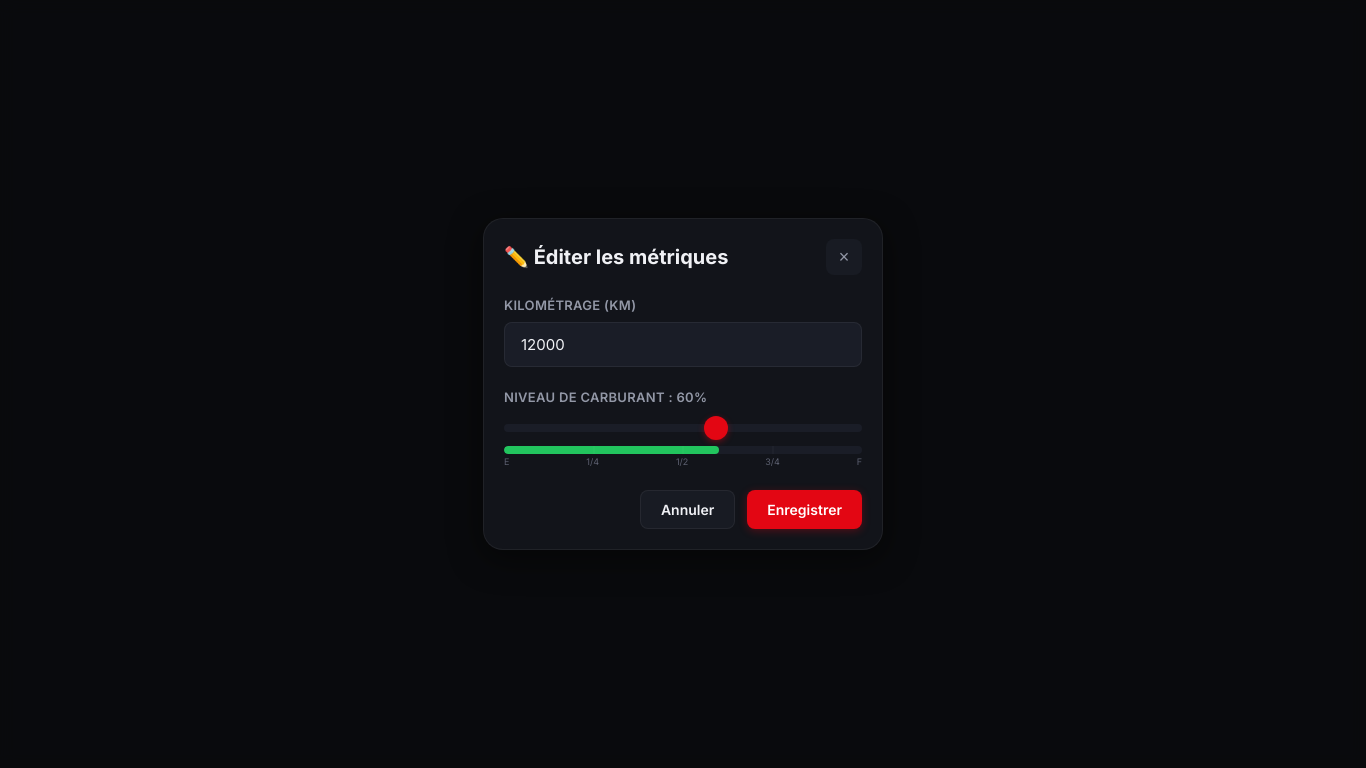
EditMetricsModal › affiche une erreur si la mise à jour échoue
Step 1. Click the button "Enregistrer" → (805, 509), box [747,490,862,529]
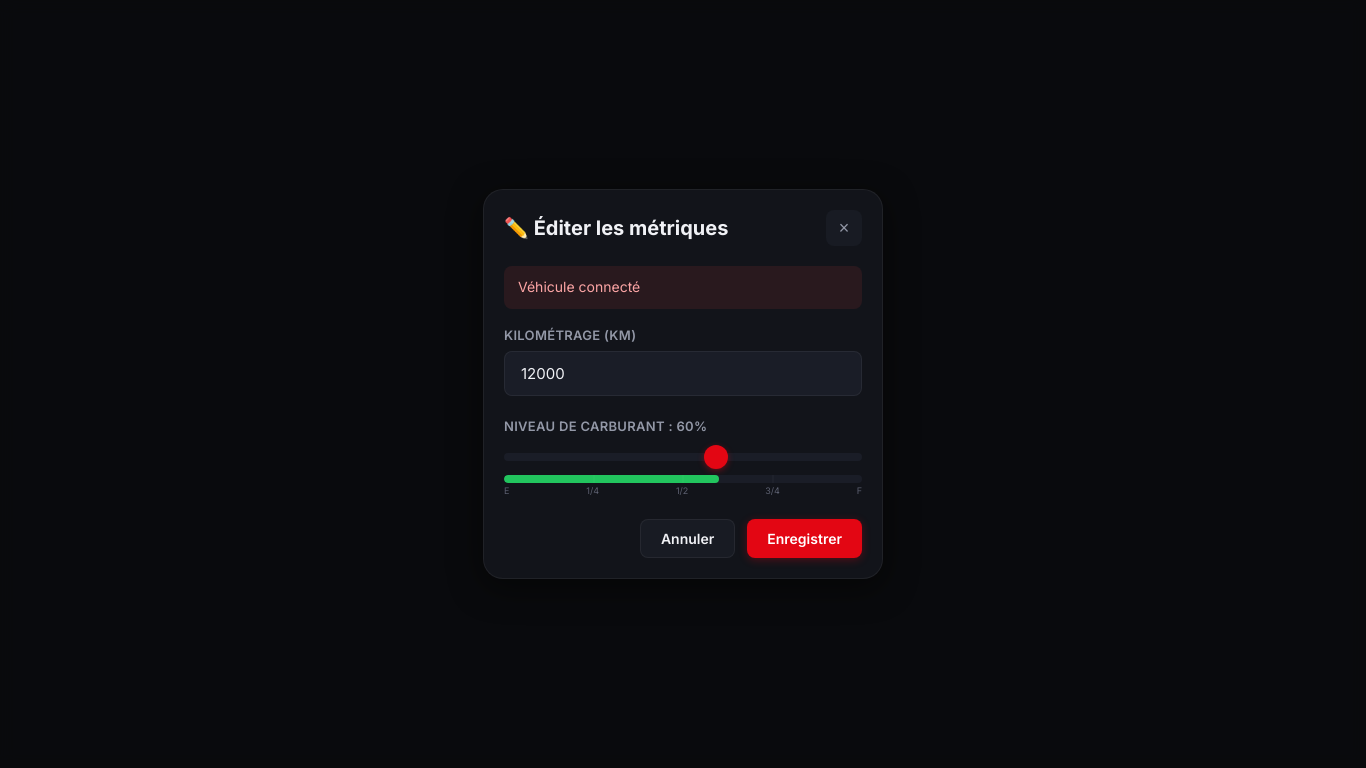
Expected: the text "Véhicule connecté" is shown, [504,266,862,309]
